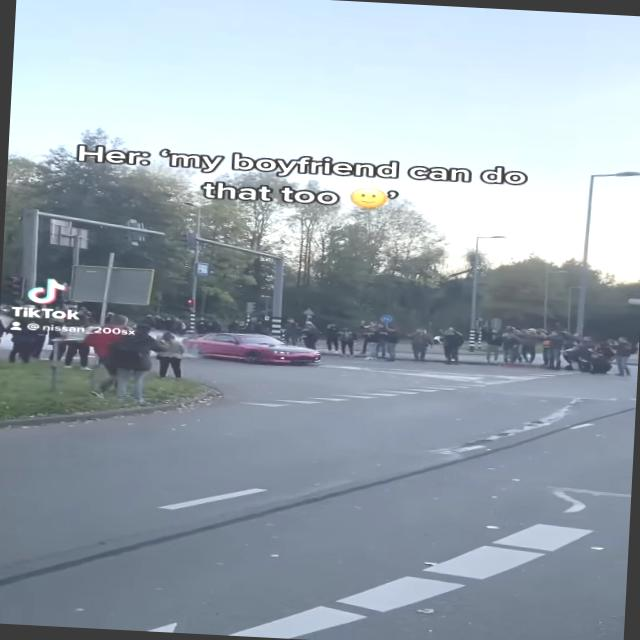car: (188, 324, 326, 372)
